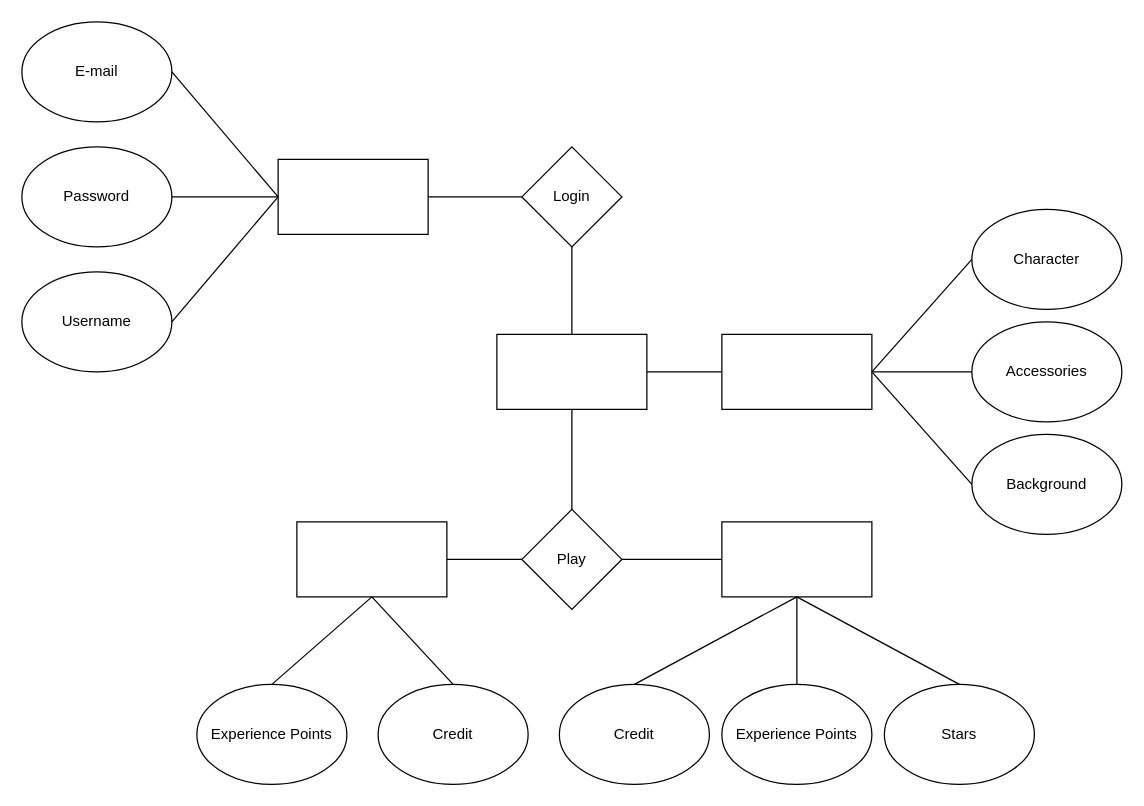
This 1144x806 diagram has some shape labels left out. The shapes that lost their labels are listed below. From the top down, each one's centre as x and y in pixels, then its label:
At (352,196): "Player".
At (571,371): "Homepage".
At (796,371): "Shop".
At (371,559): "Endless".
At (796,559): "Multiplayer".
